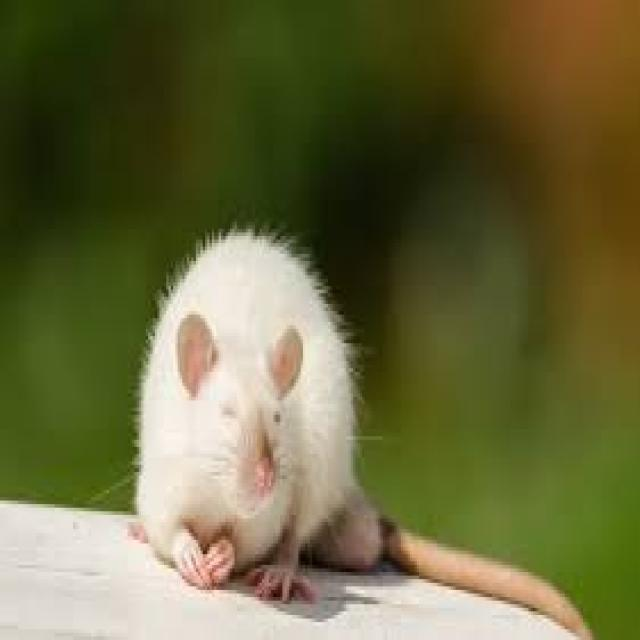rat: (125, 222, 392, 604)
